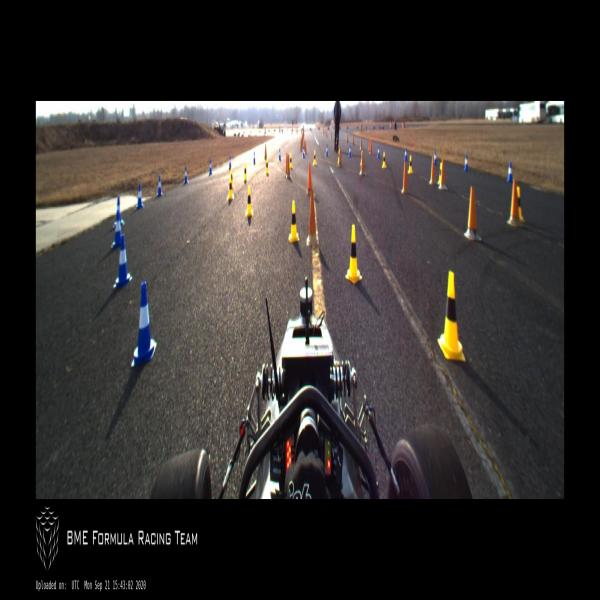blue_cone: (131, 281, 157, 368), (113, 234, 132, 290), (111, 211, 125, 248), (113, 197, 125, 228), (135, 184, 144, 209), (506, 160, 512, 183), (156, 176, 162, 198), (183, 166, 189, 184), (432, 149, 438, 167), (403, 146, 408, 162), (464, 153, 468, 172), (228, 154, 232, 171), (208, 160, 212, 176), (278, 147, 282, 162), (252, 151, 256, 166), (348, 144, 352, 159), (377, 144, 380, 159), (302, 145, 305, 159), (326, 144, 328, 157)
yellow_cone: (437, 271, 466, 362), (345, 224, 362, 285), (288, 200, 300, 242), (516, 186, 525, 224), (246, 186, 254, 218), (227, 176, 234, 200), (381, 150, 387, 169), (229, 168, 234, 190), (408, 154, 413, 174), (243, 162, 248, 181), (438, 162, 442, 184), (265, 157, 269, 176), (289, 153, 293, 170), (313, 150, 317, 167), (338, 147, 340, 165)
